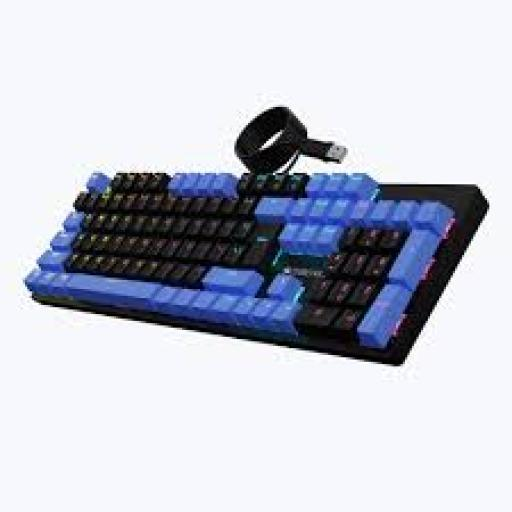KEYBOARD-2: (25, 171, 487, 362)
